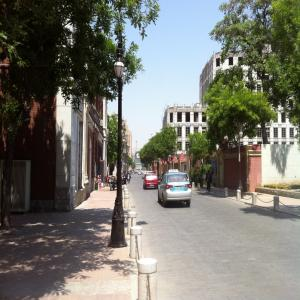Vehicle-registration-plate: (177, 187, 183, 191)
